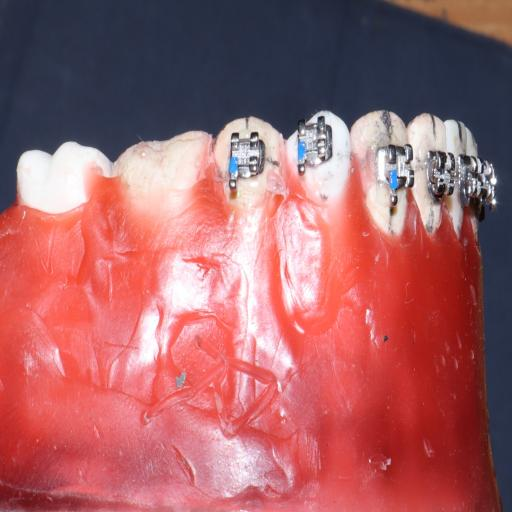correct_brace: (288, 109, 354, 210)
incorrect_brace: (295, 116, 335, 178)
